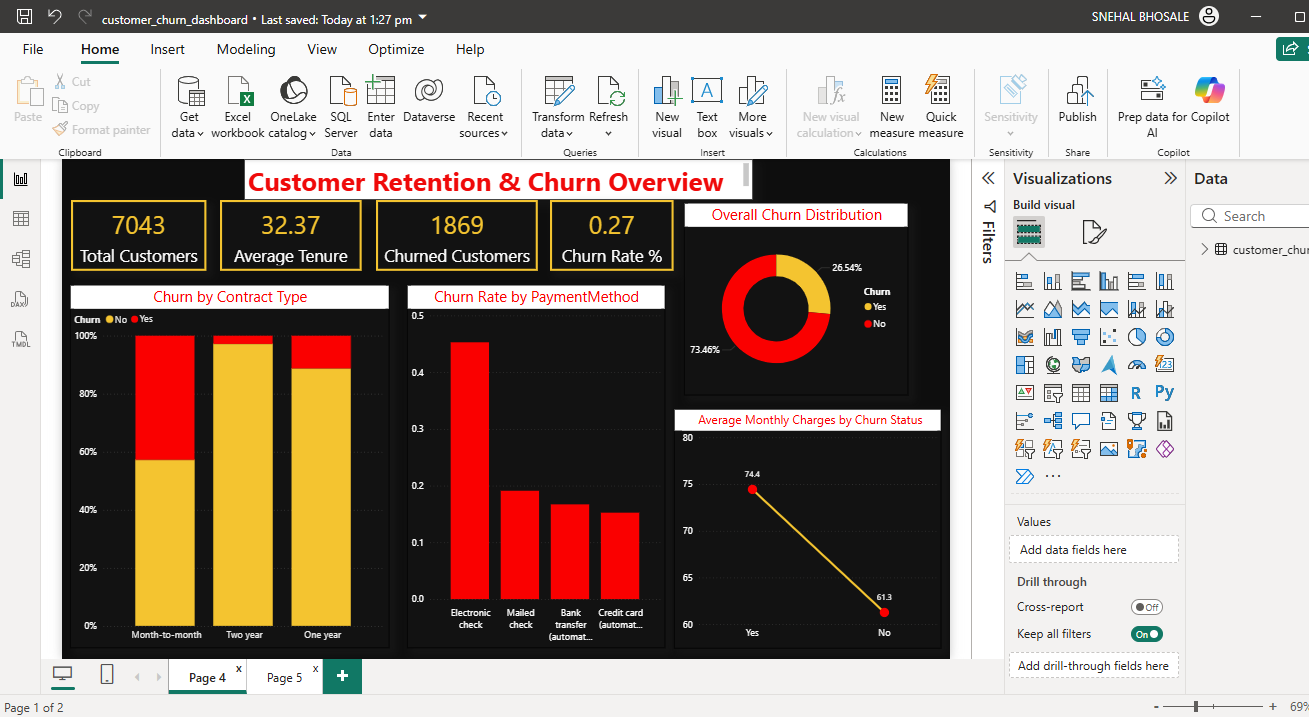

Layout of this report page (visuals, bound fields, positions):
{"tool":"powerbi","page":{"name":"Page 4","canvas":[1280,720],"ordinal":0},"visuals":[{"type":"textbox","box":[262.1,0,733,59],"z":0},{"type":"donutChart","title":"Overall Churn Distribution","fields":{"Category":["customer_churn.Churn"],"Y":["CountNonNull(customer_churn.customerID)"]},"box":[895,63.3,323.3,276.7],"z":1000},{"type":"hundredPercentStackedColumnChart","title":"Churn by Contract Type","fields":{"Category":["customer_churn.Contract"],"Y":["CountNonNull(customer_churn.customerID)"],"Series":["customer_churn.Churn"]},"box":[11.7,181.7,460,523.3],"z":2000},{"type":"clusteredColumnChart","title":"Churn Rate by PaymentMethod","fields":{"Category":["customer_churn.PaymentMethod"],"Y":["customer_churn.Churn Rate %"]},"box":[496.7,181.7,371.7,523.3],"z":3000},{"type":"card","fields":{"Values":["customer_churn.Total Customers"]},"box":[13.5,58.9,195.1,101.8],"z":4000},{"type":"card","fields":{"Values":["customer_churn.Average Tenure"]},"box":[227,58.9,203.7,101.8],"z":5000},{"type":"card","fields":{"Values":["customer_churn.Churned Customers"]},"box":[451.5,58.9,233.1,101.8],"z":6000},{"type":"card","fields":{"Values":["customer_churn.Churn Rate %"]},"box":[703.1,58.9,177.9,101.8],"z":7000},{"type":"lineChart","title":"Average Monthly Charges by Churn Status","fields":{"Category":["customer_churn.Churn"],"Y":["Avg(customer_churn.MonthlyCharges)"]},"box":[881.7,360,385,345],"z":8000}]}

Visuals, with their boxes on the page's 1280x720 design canvas (x1, y1, x2, y2). These are canvas units, not pixel positions in the 1309x717 screenshot, which may show the page scaled, cropped or inside an application window:
textbox: (262,0,995,59)
"Overall Churn Distribution" donutChart: (895,63,1218,340)
"Churn by Contract Type" hundredPercentStackedColumnChart: (12,182,472,705)
"Churn Rate by PaymentMethod" clusteredColumnChart: (497,182,868,705)
card - customer_churn.Total Customers: (14,59,209,161)
card - customer_churn.Average Tenure: (227,59,431,161)
card - customer_churn.Churned Customers: (452,59,685,161)
card - customer_churn.Churn Rate %: (703,59,881,161)
"Average Monthly Charges by Churn Status" lineChart: (882,360,1267,705)
